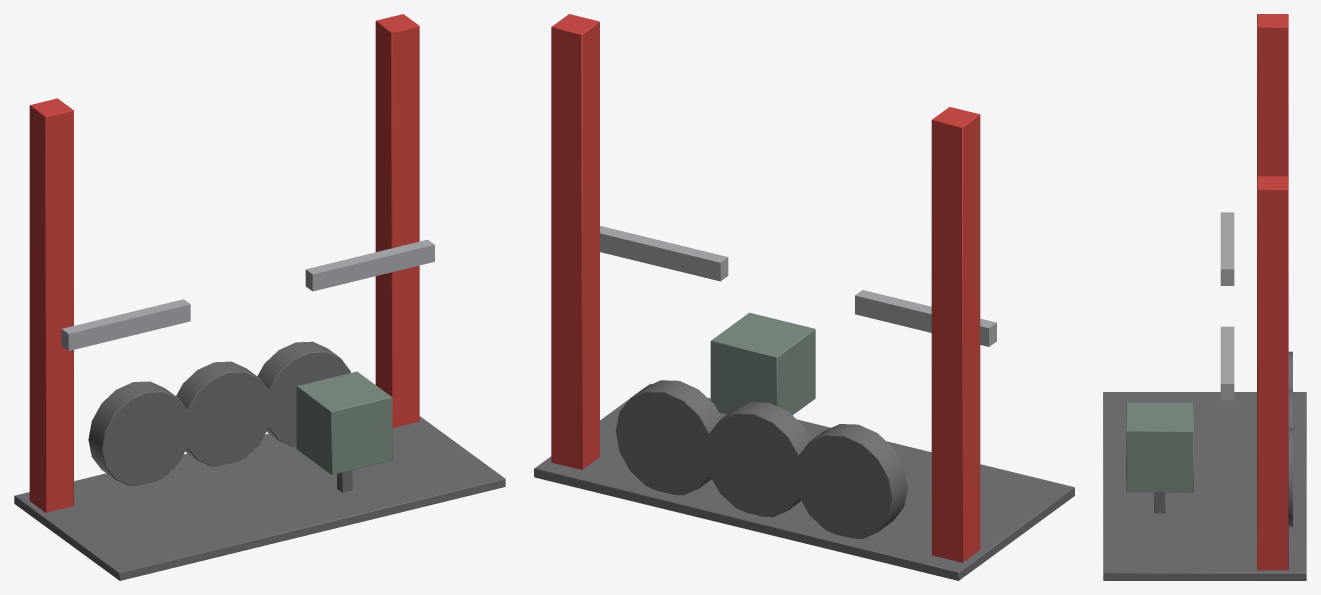
The model's file is feM_Garage.fbx.
3 renders of one model, left to right at view 1: azimuth 30°, elevation 25°; view 2: azimuth 150°, elevation 25°; view 3: azimuth 270°, elevation 25°, orthographic. The views are drawn at different scales.
Parts seen in each view (by area): view 1: feM_Garage_Base, FePiston_LiftArms; view 2: feM_Garage_Base, FePiston_LiftArms; view 3: feM_Garage_Base, FePiston_LiftArms.
Boxes of the visible parts, x1=… form: feM_Garage_Base: x1=14, y1=14, x2=505, y2=580; FePiston_LiftArms: x1=61, y1=239, x2=434, y2=350; feM_Garage_Base: x1=534, y1=14, x2=1074, y2=580; FePiston_LiftArms: x1=600, y1=226, x2=996, y2=346; feM_Garage_Base: x1=1103, y1=14, x2=1306, y2=580; FePiston_LiftArms: x1=1220, y1=212, x2=1234, y2=400.
Size of the model in its own units: 1.9 by 1.9 by 0.9.
